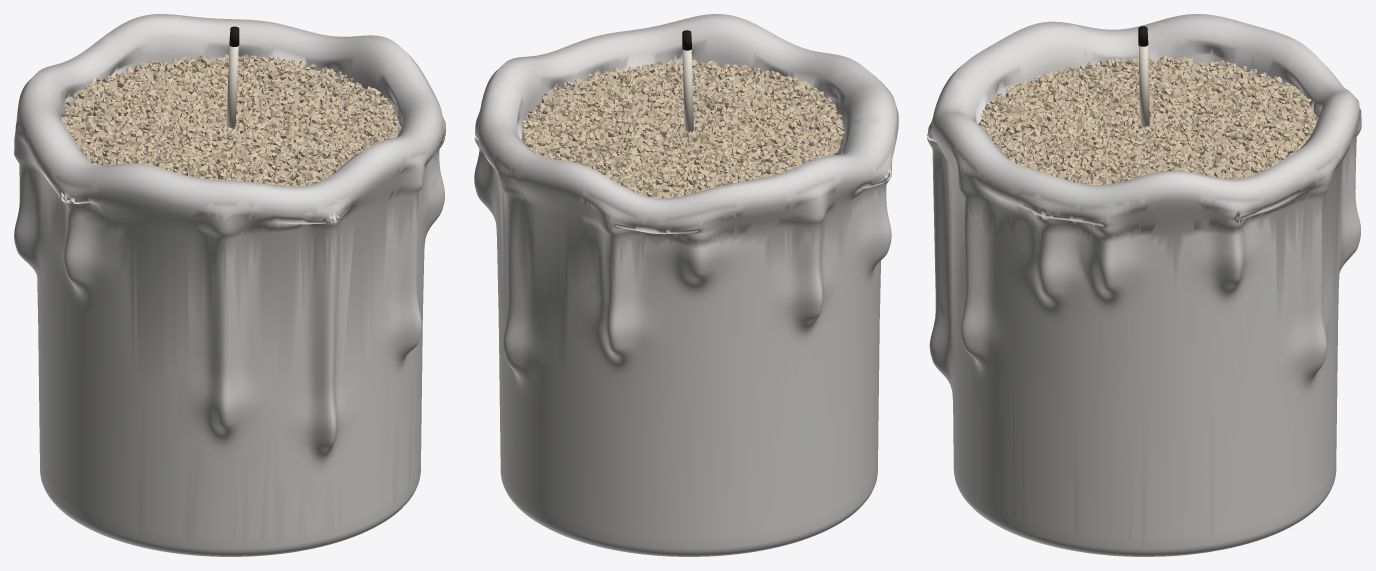
Rendered from derretido.glb.
3 renders of one model, left to right at view 1: azimuth 30°, elevation 25°; view 2: azimuth 150°, elevation 25°; view 3: azimuth 270°, elevation 25°, orthographic.
Visible parts, largest first — view 1: Derretido, Areia, Pavio0; view 2: Derretido, Areia, Pavio0; view 3: Derretido, Areia, Pavio0.
Part boxes in pixels (bbox=[...]): Derretido: bbox=[14, 14, 445, 556]; Areia: bbox=[61, 54, 397, 186]; Pavio0: bbox=[225, 46, 238, 130]; Derretido: bbox=[474, 14, 898, 556]; Areia: bbox=[521, 59, 844, 198]; Pavio0: bbox=[682, 49, 693, 137]; Derretido: bbox=[927, 14, 1361, 556]; Areia: bbox=[978, 55, 1317, 184]; Pavio0: bbox=[1138, 45, 1149, 127].
Size of the model in its own units: 0.0942 by 0.11 by 0.0954.
